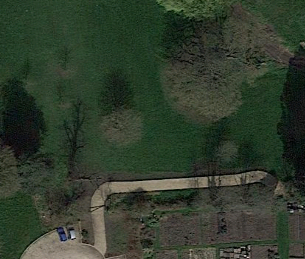tree: (94, 102, 143, 150), (32, 176, 74, 232)
